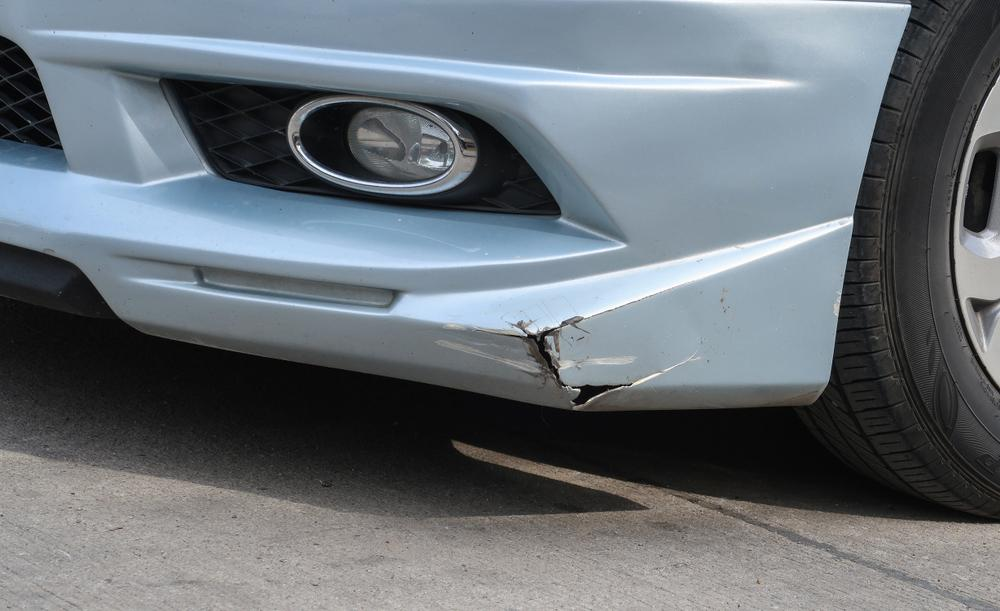crack: (473, 281, 702, 408)
scratch: (431, 318, 545, 373)
